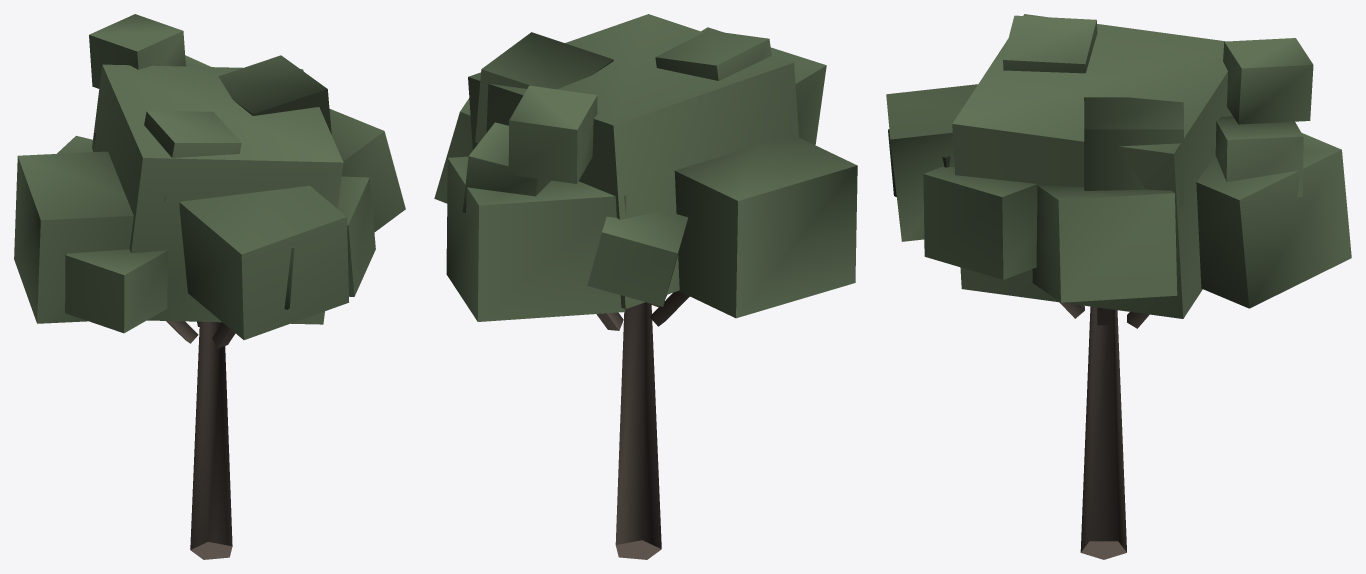
Rendered from tree_broadleaf.lod2.glb.
The picture shows the model from 3 angles, left to right: view 1: azimuth 30°, elevation 25°; view 2: azimuth 150°, elevation 25°; view 3: azimuth 270°, elevation 25°; orthographic projection. The views are drawn at different scales.
Parts seen in each view (by area): view 1: props_tree_broadleaf.lod2; view 2: props_tree_broadleaf.lod2; view 3: props_tree_broadleaf.lod2.
Part boxes in pixels (<box>): props_tree_broadleaf.lod2: <box>14,14,405,559</box>; props_tree_broadleaf.lod2: <box>434,14,857,559</box>; props_tree_broadleaf.lod2: <box>886,14,1351,559</box>.
Bounding box in the file's own units: 4.77 × 5.87 × 4.96.
